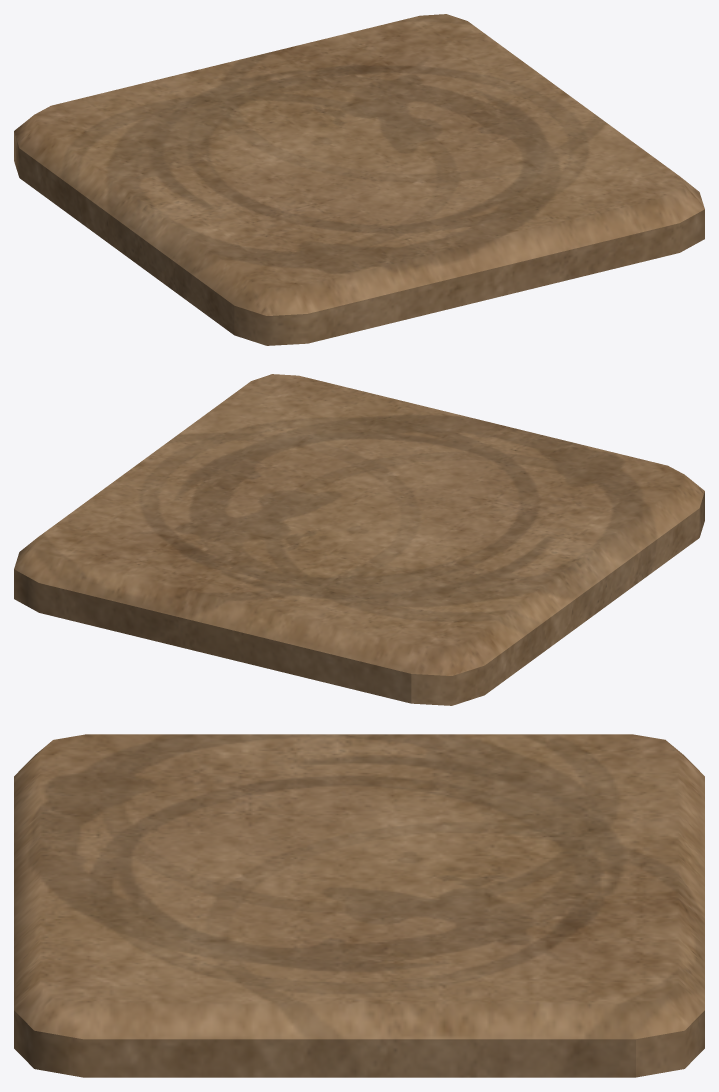
The model's file is SM_Coaster_04.fbx.
3 views of the same model, one above another, from view 1: azimuth 30°, elevation 25°; view 2: azimuth 150°, elevation 25°; view 3: azimuth 270°, elevation 25° (orthographic). The views are drawn at different scales.
Parts seen in each view (by area): view 1: SM_Coaster_04_LOD0; view 2: SM_Coaster_04_LOD0; view 3: SM_Coaster_04_LOD0.
Boxes of the visible parts, <box> form: SM_Coaster_04_LOD0: <box>14,14,704,345</box>; SM_Coaster_04_LOD0: <box>14,374,704,705</box>; SM_Coaster_04_LOD0: <box>14,734,704,1077</box>.
Size of the model in its own units: 11.21 by 11.21 by 1.12.
1 material, 1 textured.
